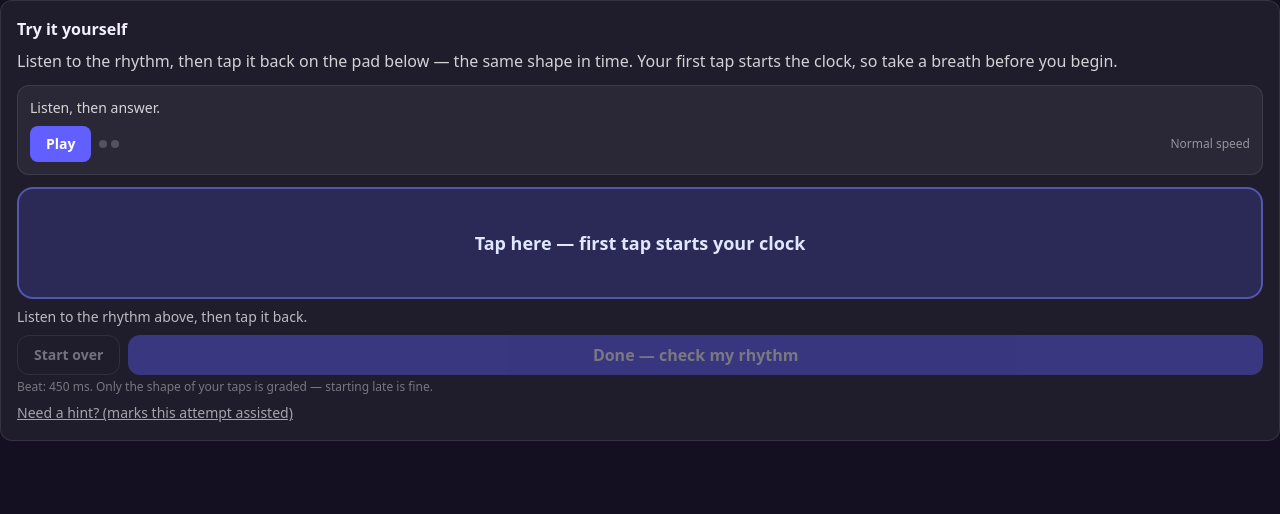
Test case: TapPadAttempt (rhythm-tap) › sloppy tapping gets the nudge
Click the button named "Tap the rhythm pad". click: [640, 243]
box: x1=17 y1=187 x2=1263 y2=299
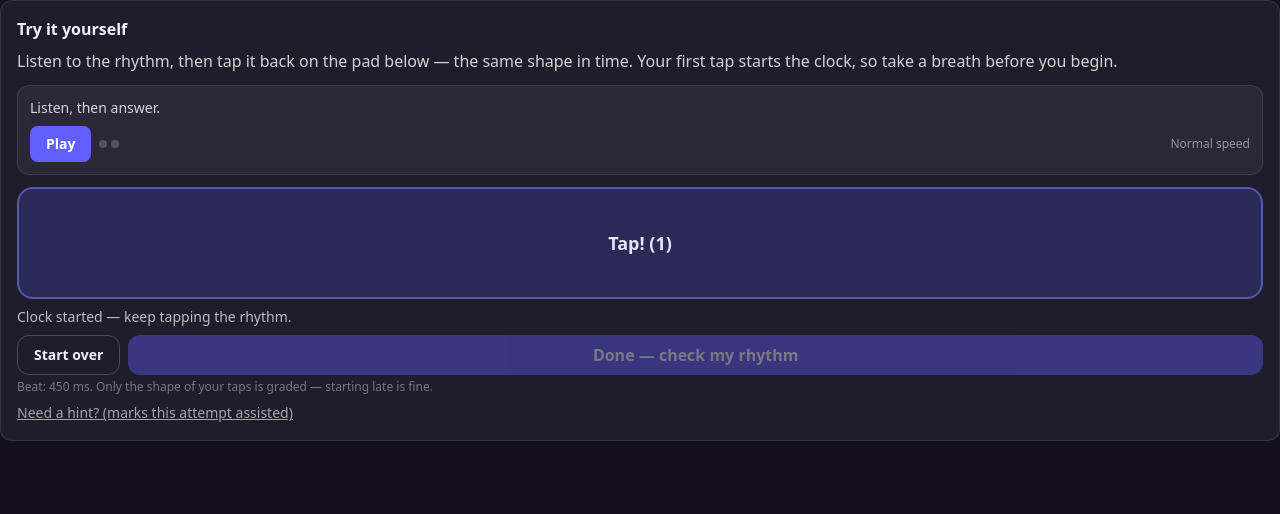
Click the button named "Tap the rhythm pad". click: [640, 243]
box: x1=17 y1=187 x2=1263 y2=299
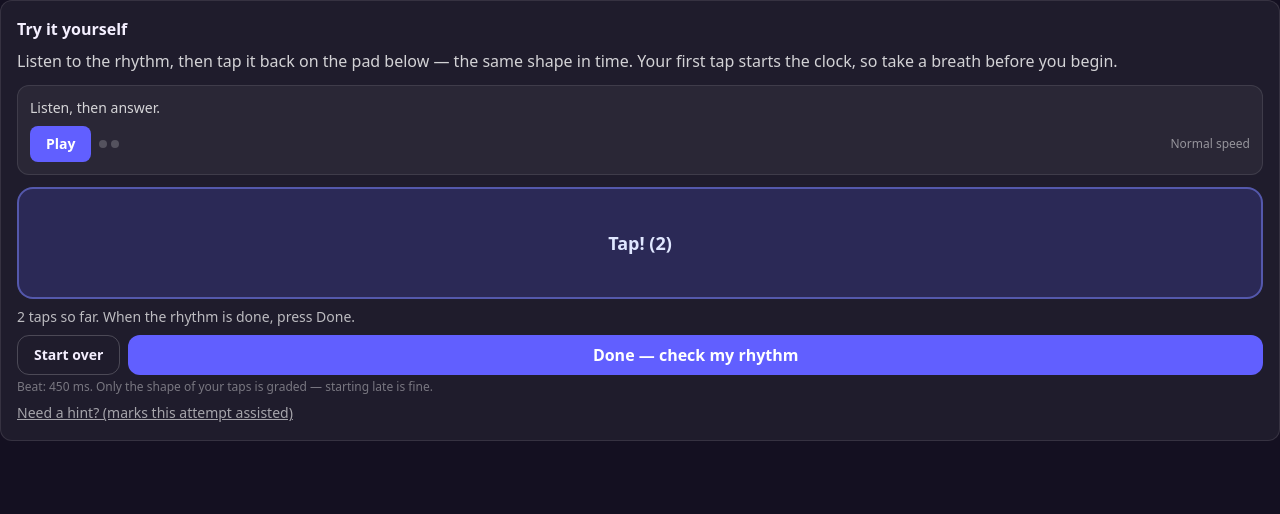
Click the button "Done — check my rhythm". click: [696, 355]
box: x1=128 y1=335 x2=1263 y2=375
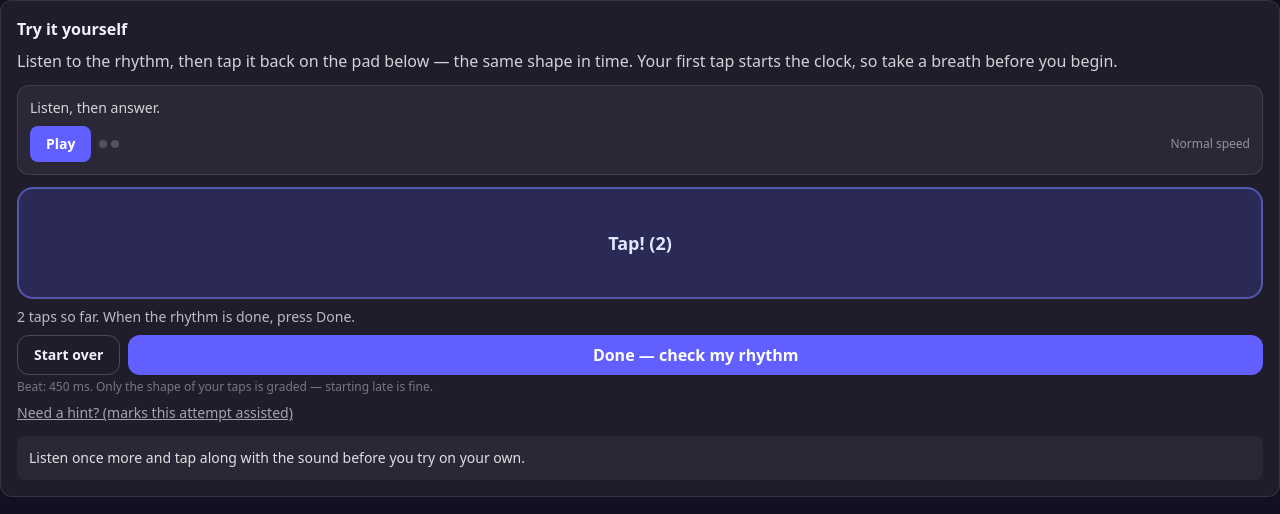
Check: the text "Listen once more and tap along with the sound before you try on your own." is shown, box x1=17 y1=436 x2=1263 y2=480
